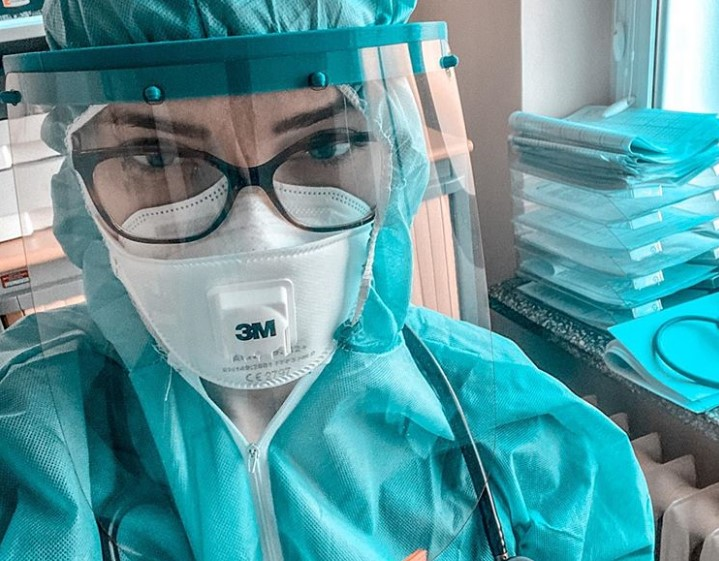face_with_mask: (6, 10, 441, 395)
